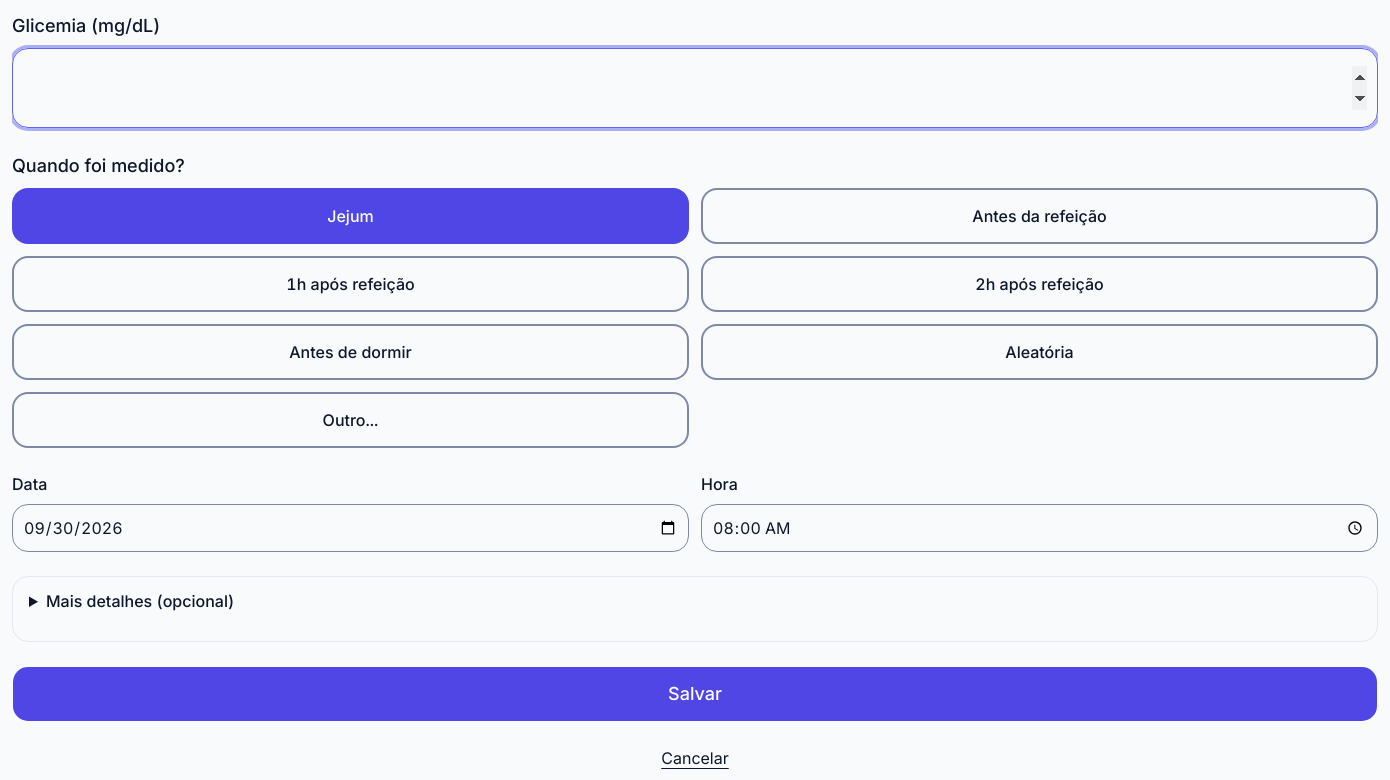
Test: aviso de medição fora da faixa › mostra a mensagem neutra, sem classificar nem sugerir conduta
Type "150" into the number field labelled "Glicemia (mg/dL)" at (695, 88), box [12, 48, 1378, 128]
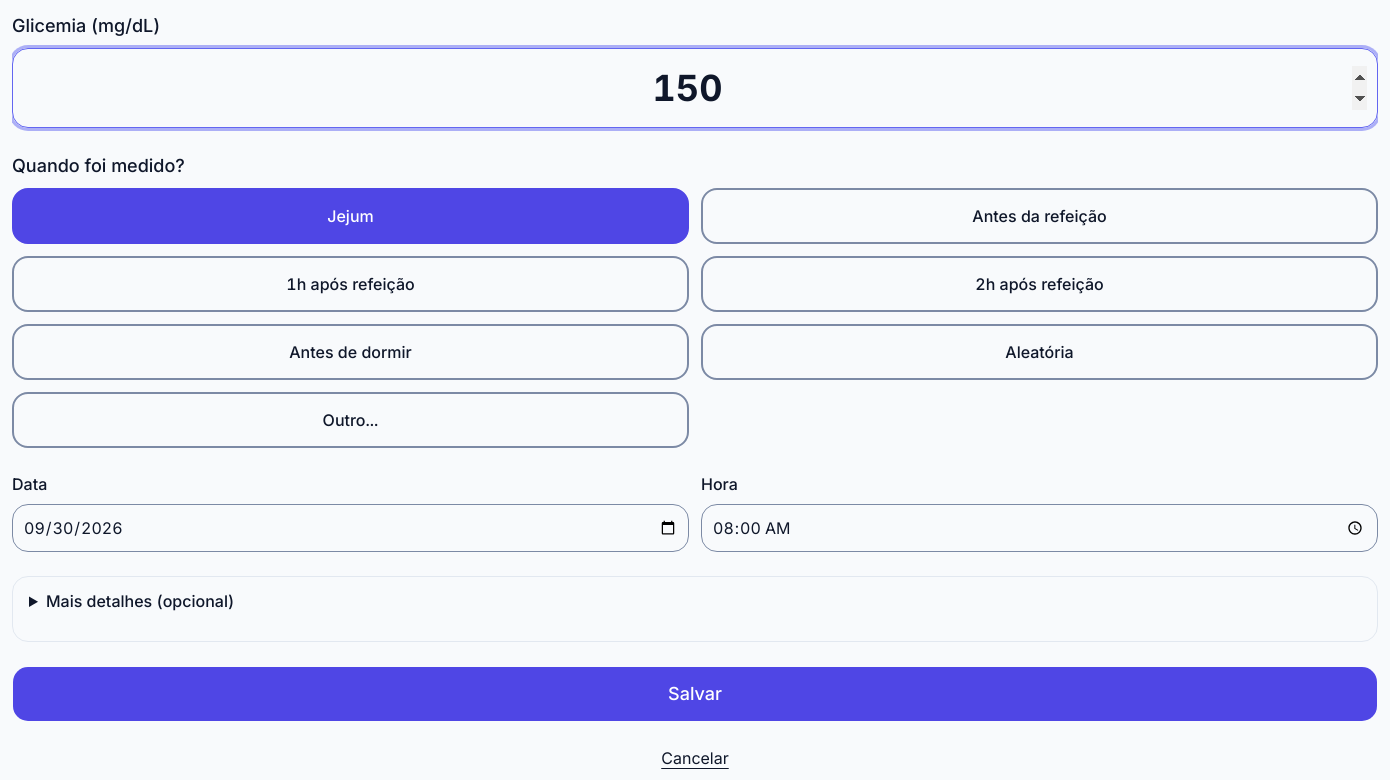
Click the button "Salvar" at (695, 694), box [12, 666, 1378, 722]
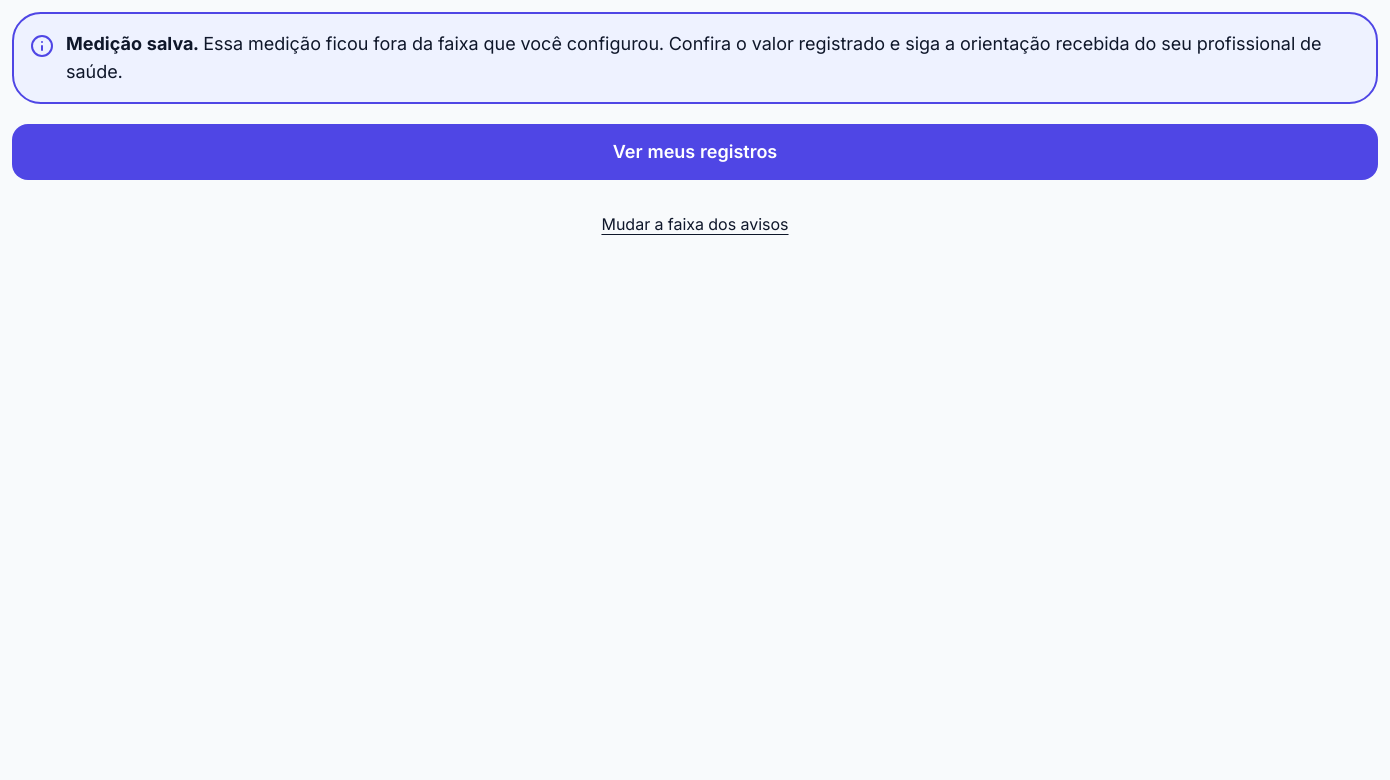
Now the message shows "Essa medição ficou fora da faixa que você configurou. Confira o valor registrado e siga a orientação recebida do seu profissional de saúde.", box [66, 33, 1322, 82]
